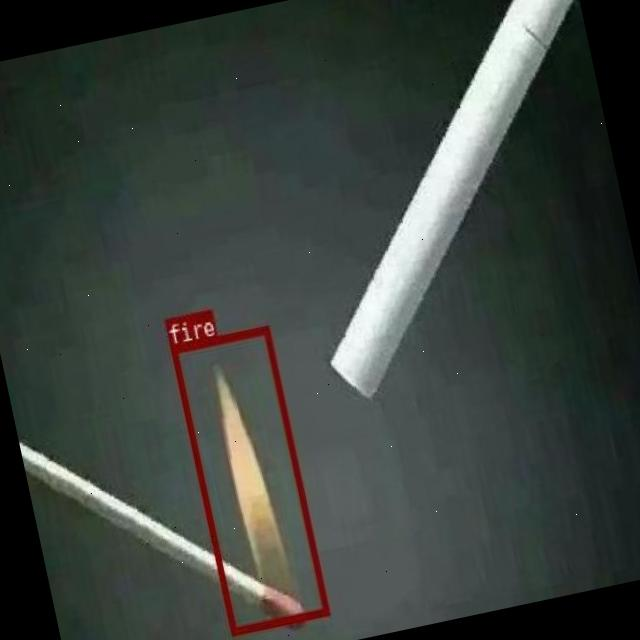fire: (168, 324, 329, 635)
